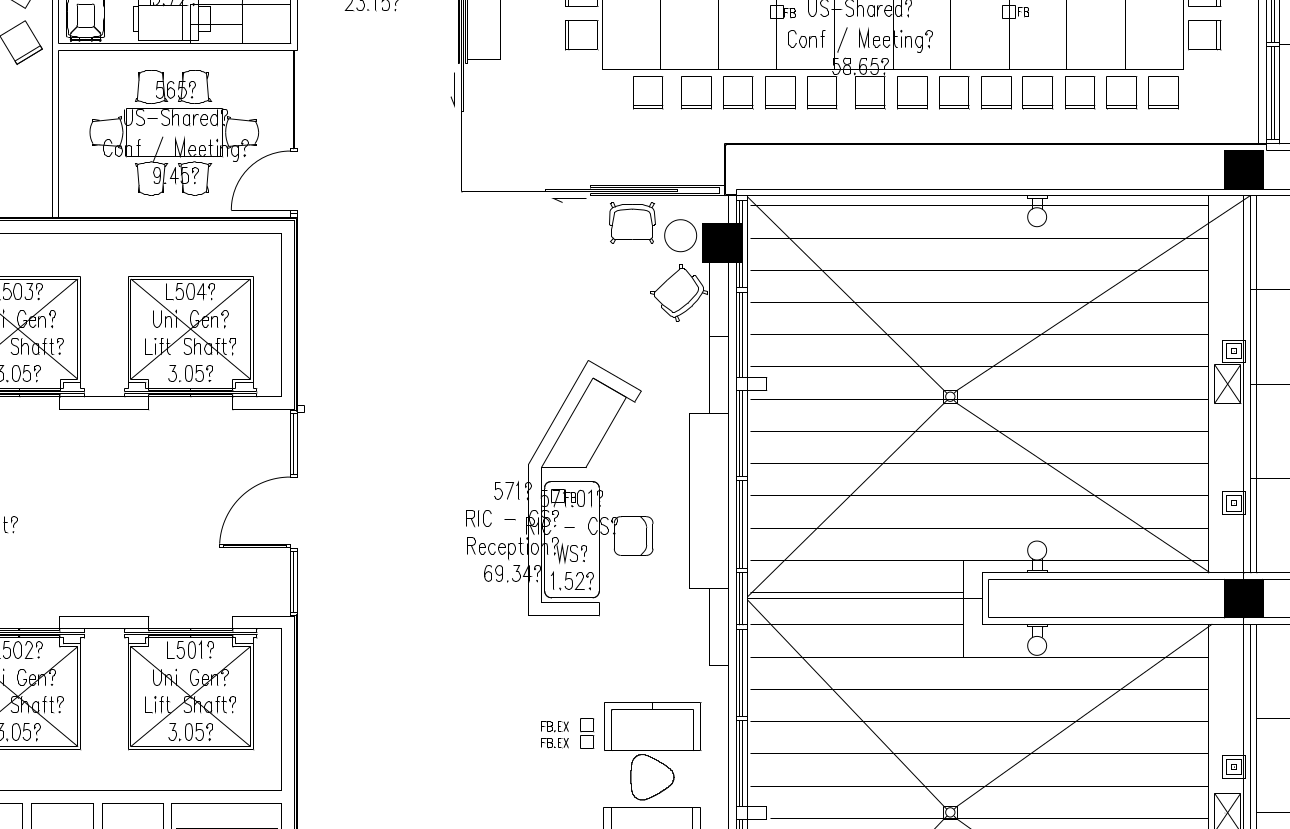door: (212, 469, 293, 555), (227, 144, 297, 216)
